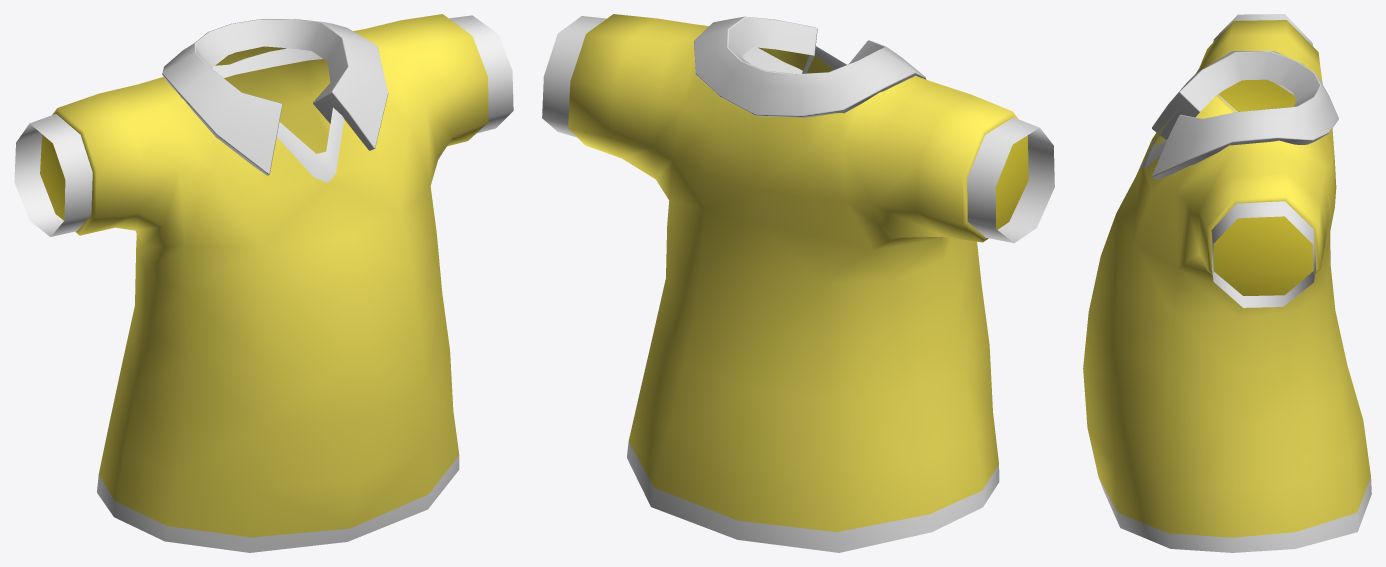
Rendered from Outerwear_Yellow_015.glb.
The picture shows the model from 3 angles, left to right: view 1: azimuth 30°, elevation 25°; view 2: azimuth 150°, elevation 25°; view 3: azimuth 270°, elevation 25°; orthographic projection. The views are drawn at different scales.
Parts seen in each view (by area): view 1: Outerwear_Yellow_015; view 2: Outerwear_Yellow_015; view 3: Outerwear_Yellow_015.
Boxes of the visible parts, x1,y1,x2,y2 form: Outerwear_Yellow_015: (14, 14, 513, 552); Outerwear_Yellow_015: (542, 14, 1054, 552); Outerwear_Yellow_015: (1083, 14, 1371, 552).
Bounding box in the file's own units: 0.6893 × 0.6487 × 0.41.
1 material, 1 textured.
